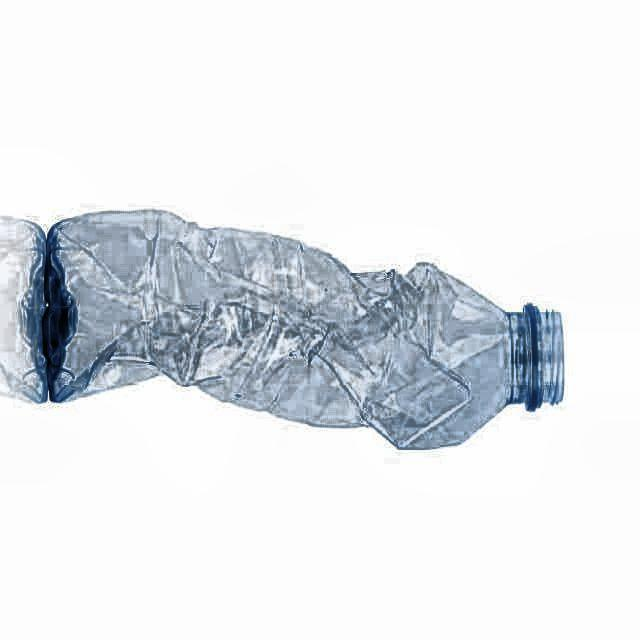plastic: (42, 210, 563, 449)
